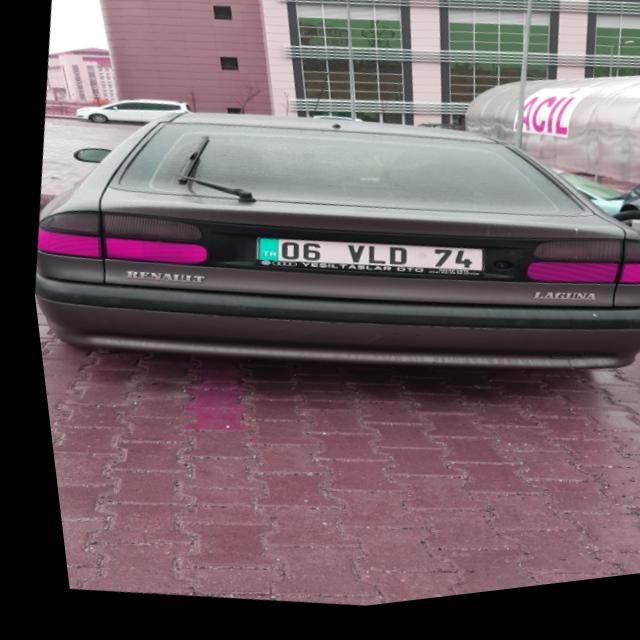license_plate: (246, 221, 478, 303)
